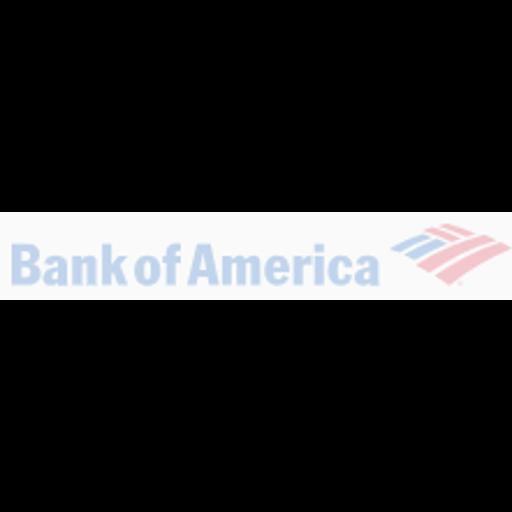Bank of America: (0, 212, 512, 300)
